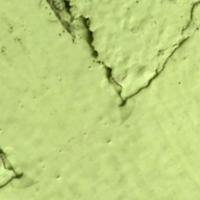crack: (51, 0, 172, 115)
